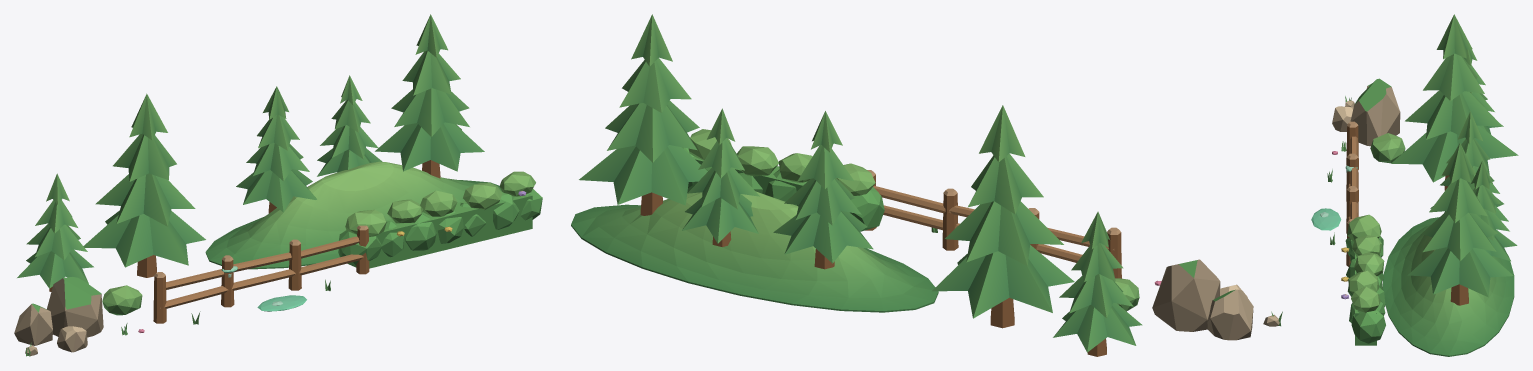
Rendered from ranch_border_chunk_a_m.fbx.
3 renders of one model, left to right at view 1: azimuth 30°, elevation 25°; view 2: azimuth 150°, elevation 25°; view 3: azimuth 270°, elevation 25°, orthographic. The views are drawn at different scales.
Visible parts, largest first — view 1: ranch_border_chunk_a_m; view 2: ranch_border_chunk_a_m; view 3: ranch_border_chunk_a_m.
Part boxes in pixels (x1,y1,x2,y2): ranch_border_chunk_a_m: (14, 14, 542, 356); ranch_border_chunk_a_m: (571, 14, 1282, 356); ranch_border_chunk_a_m: (1311, 14, 1518, 356).
Bounding box in the file's own units: 53.77 × 18.16 × 18.78.
